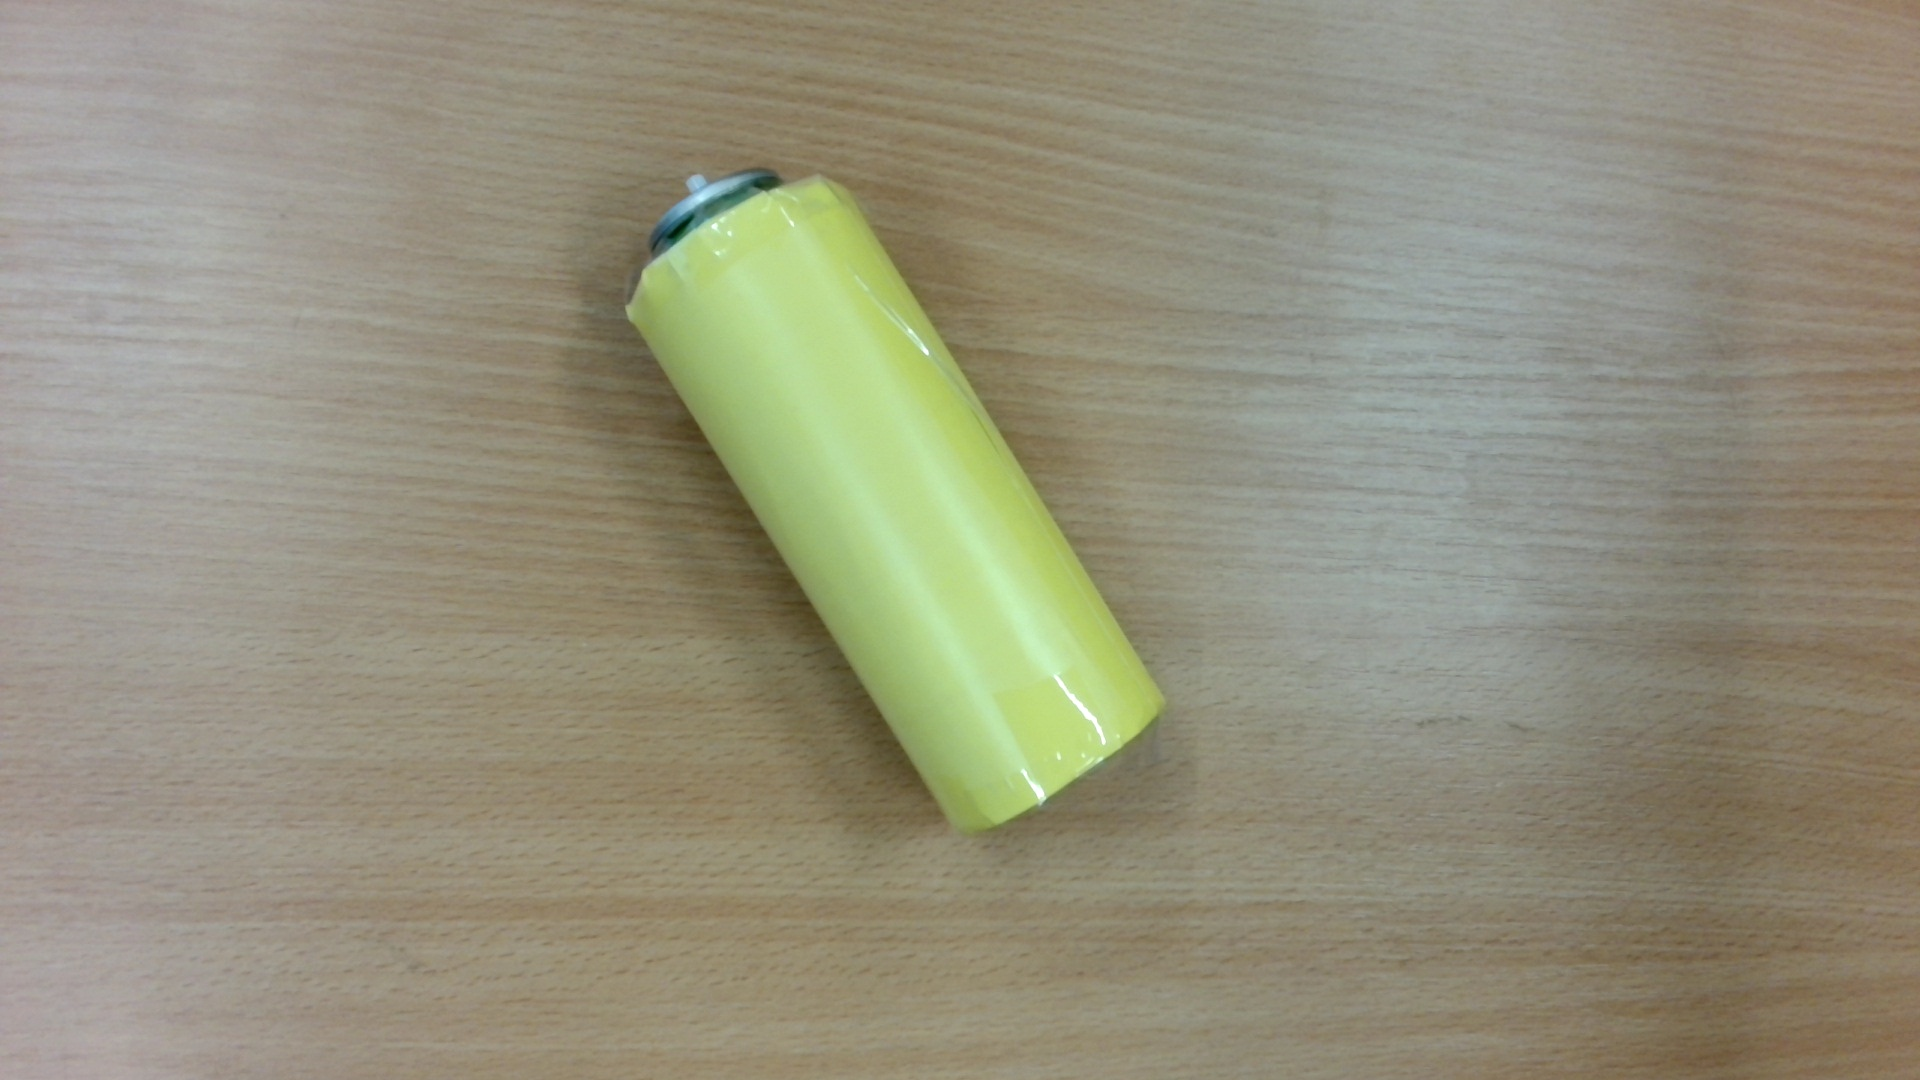Cylinder: (608, 150, 1192, 862)
